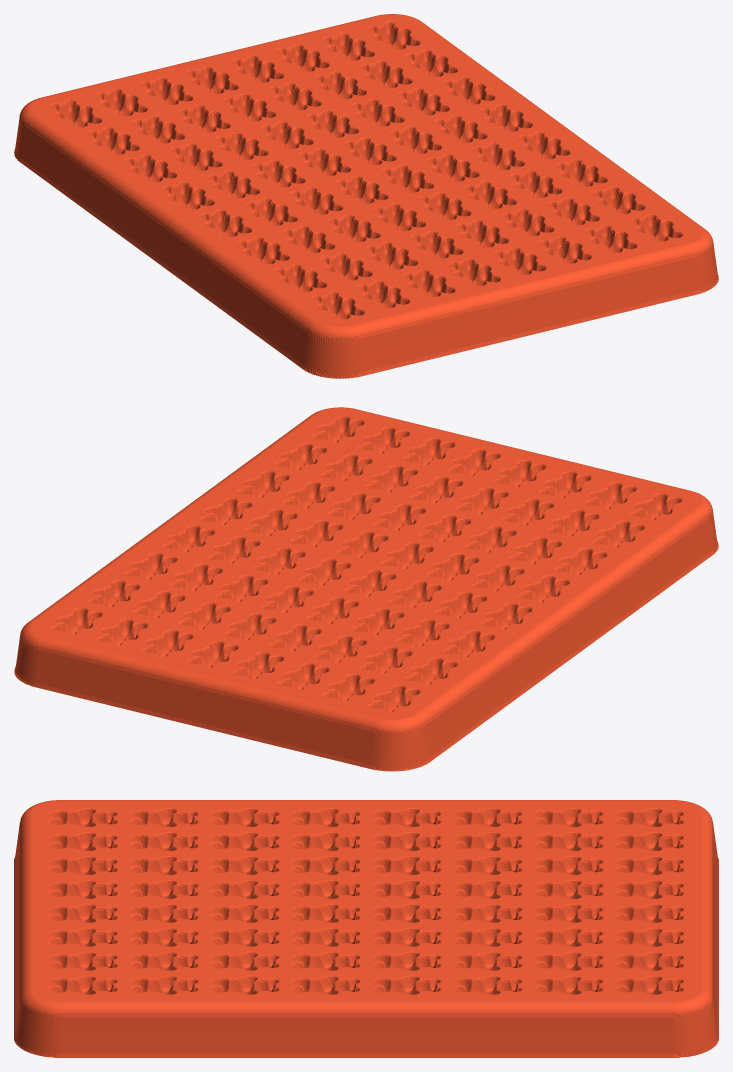
The model's file is mold.glb.
The picture shows the model from 3 angles, top to bottom: view 1: azimuth 30°, elevation 25°; view 2: azimuth 150°, elevation 25°; view 3: azimuth 270°, elevation 25°; orthographic projection. The views are drawn at different scales.
Visible parts, largest first — view 1: geometry_0; view 2: geometry_0; view 3: geometry_0.
Part boxes in pixels (x1,y1,x2,y2): geometry_0: [14, 14, 718, 378]; geometry_0: [14, 407, 718, 771]; geometry_0: [14, 800, 718, 1057].
Size of the model in its own units: 0.0995 by 0.0105 by 0.1373.
